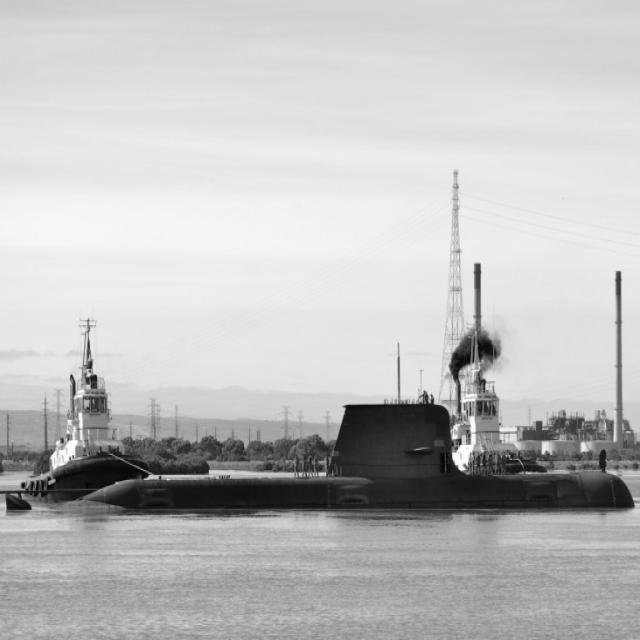submarine: (81, 407, 636, 511)
